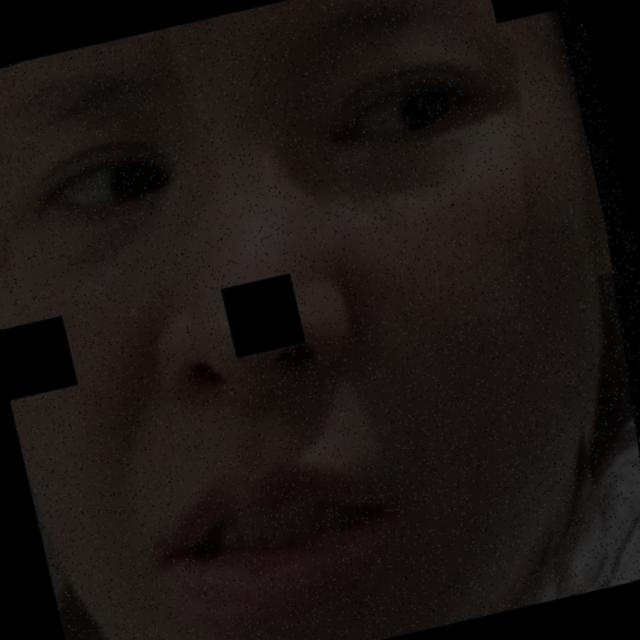angry: (17, 39, 599, 591)
